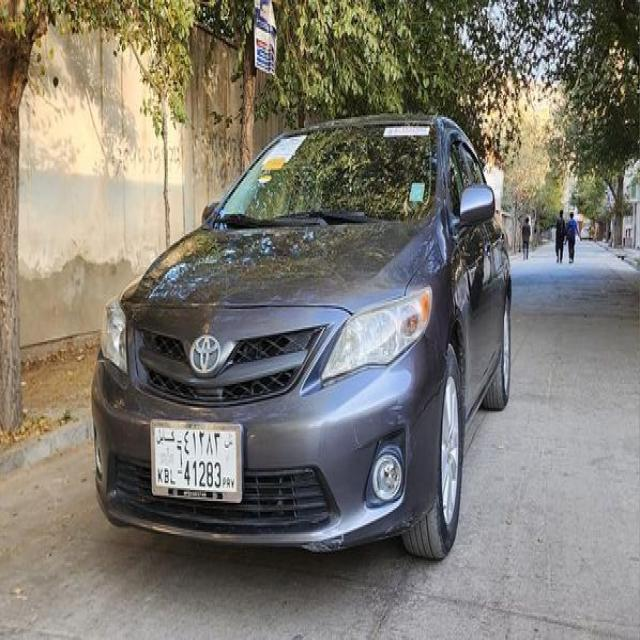Plate: (151, 419, 242, 504)
